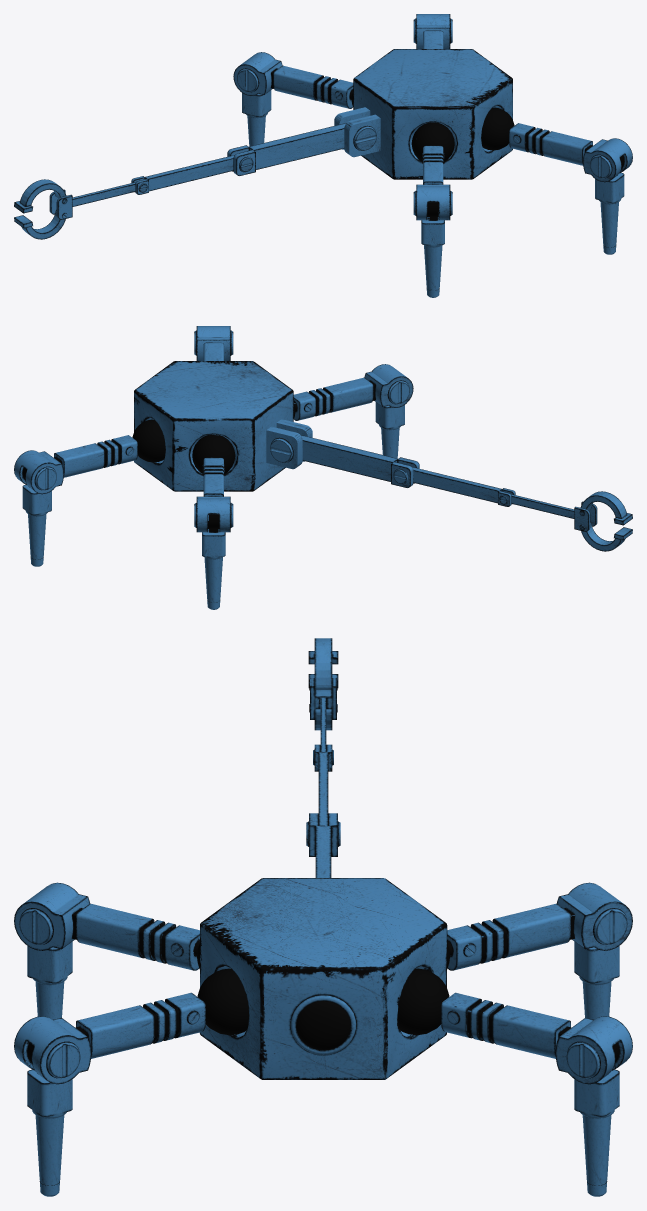
File: robot.gltf
3 views of the same model, one above another, from view 1: azimuth 30°, elevation 25°; view 2: azimuth 150°, elevation 25°; view 3: azimuth 270°, elevation 25° (orthographic). The views are drawn at different scales.
Parts seen in each view (by area): view 1: Body.006; view 2: Body.006; view 3: Body.006.
Boxes of the visible parts, box(x1,y1,x2,y2) form: Body.006: box(14, 14, 632, 297); Body.006: box(14, 326, 632, 609); Body.006: box(14, 638, 632, 1196).
Bounding box in the file's own units: 11.59 × 2.79 × 7.67.
